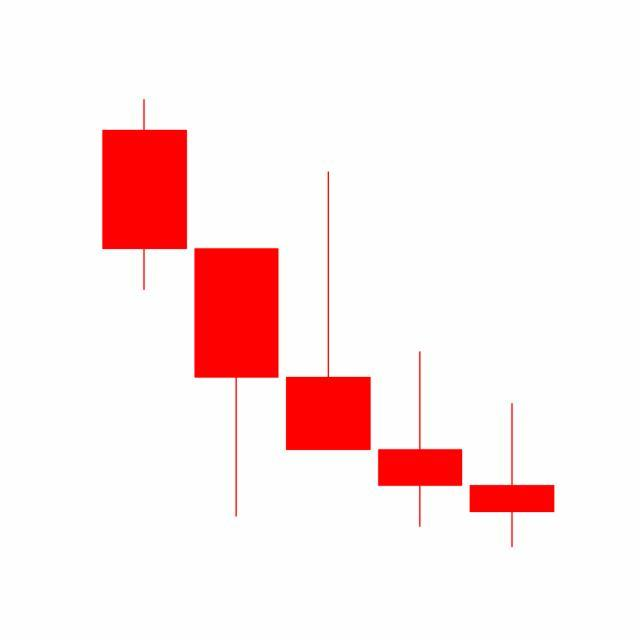Spinning Top: (374, 350, 468, 530)
